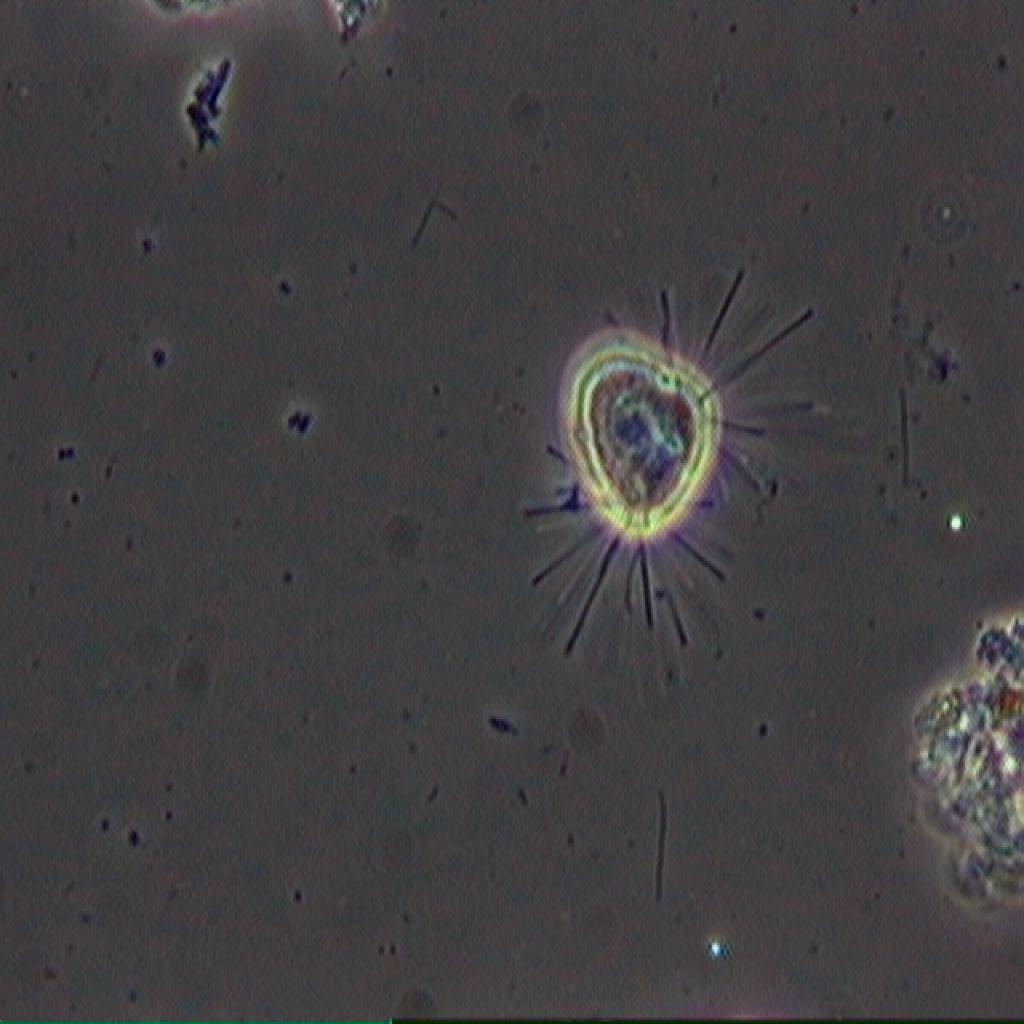Suctorida: (501, 230, 829, 676)
